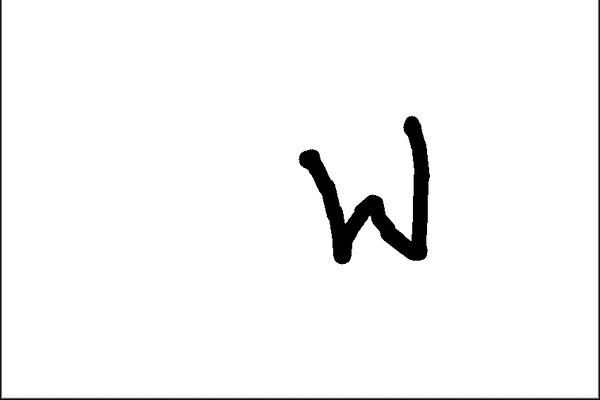w: (275, 107, 448, 278)
